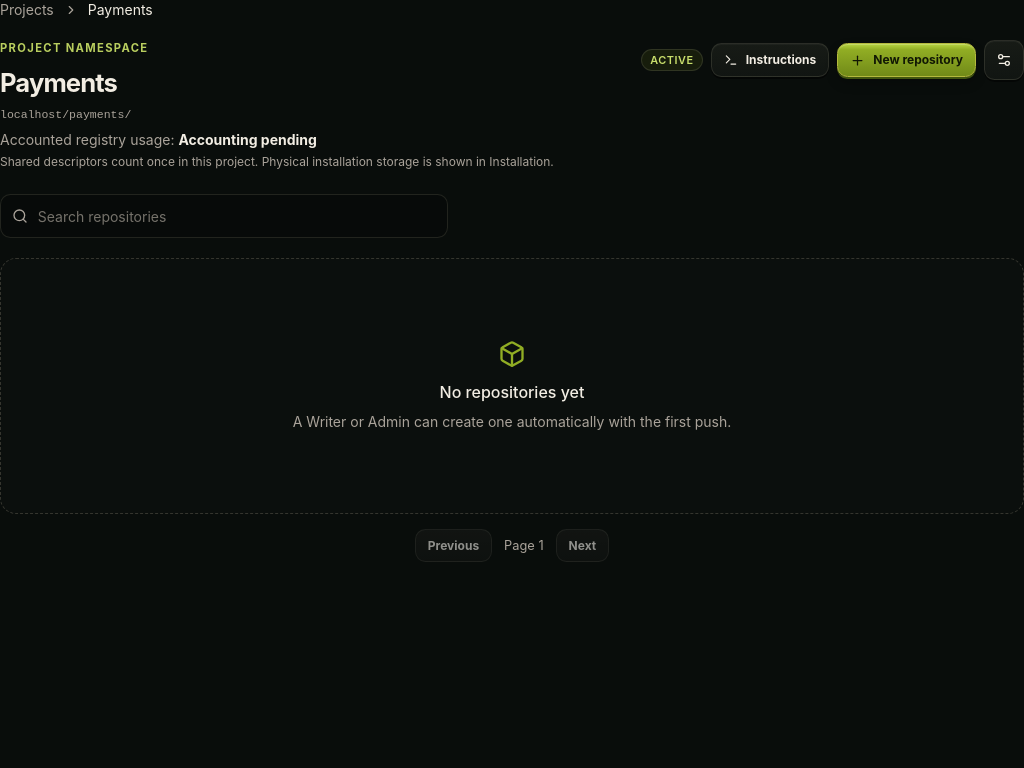
Test: ProjectPage membership management › uses the labelled delete button for project deletion
Click the button named "Project settings" at (1004, 60), box [984,40,1023,80]
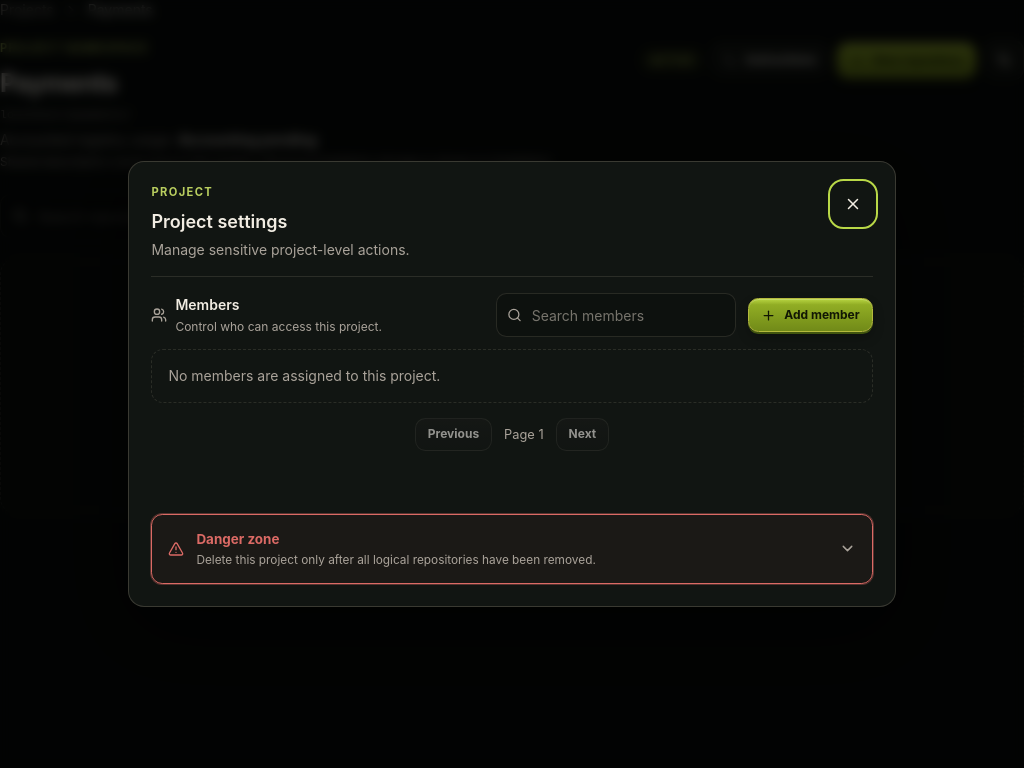
Click the button that starts with "Danger zone" at (238, 539), box [152,515,872,583]
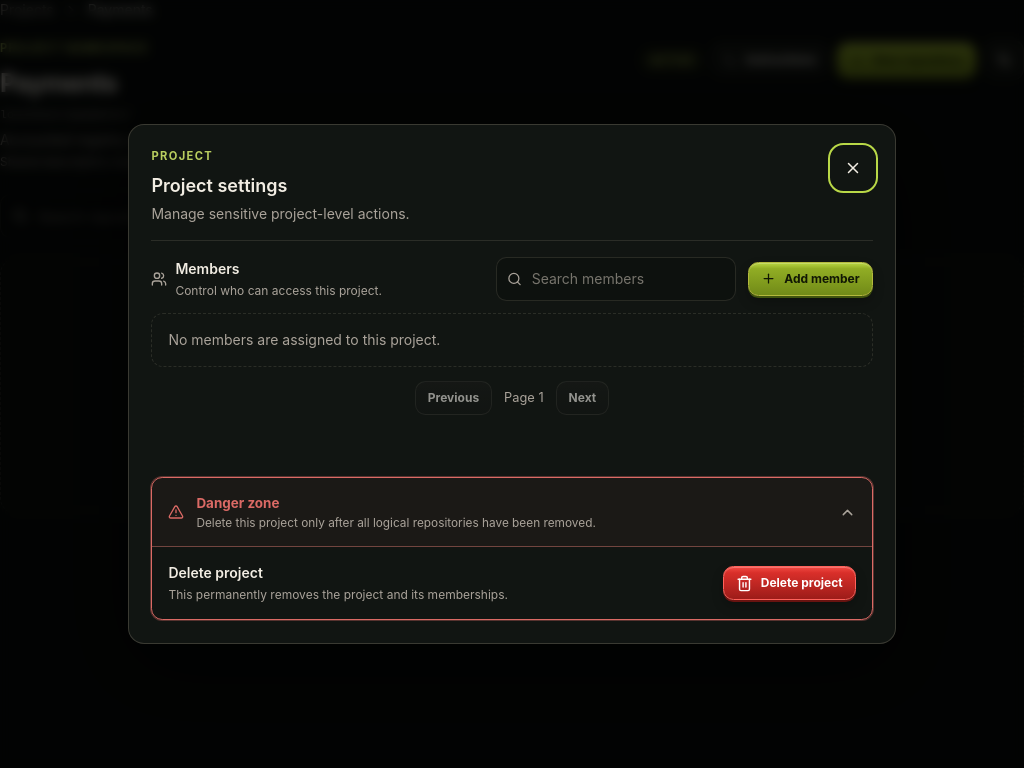
Result: the icon with class "lucide-trash-2" is shown at [736,575,753,592]
